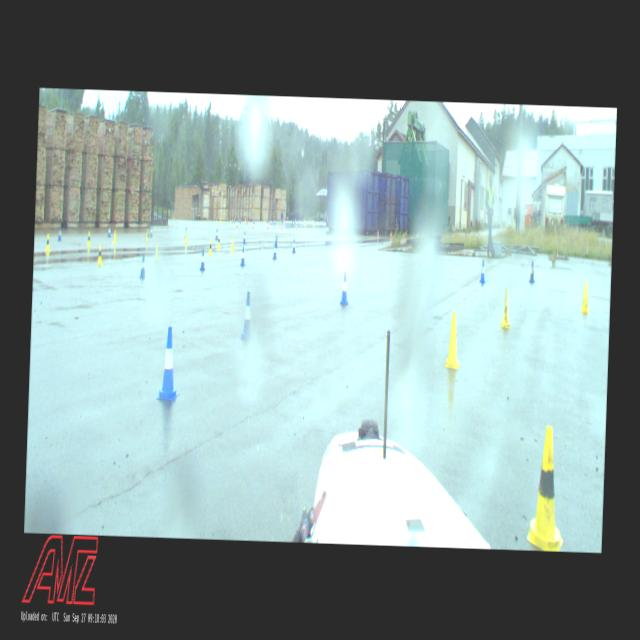blue_cone: (156, 326, 181, 399), (239, 290, 254, 338), (339, 270, 348, 304), (528, 260, 536, 282), (479, 258, 486, 282), (140, 253, 146, 278), (199, 248, 205, 270), (240, 247, 245, 266), (272, 242, 277, 259), (292, 238, 296, 252), (58, 227, 62, 241), (242, 231, 245, 243), (215, 228, 218, 240), (276, 234, 278, 247), (108, 225, 110, 237), (150, 225, 152, 237), (184, 226, 186, 238), (290, 220, 292, 227), (233, 216, 235, 222), (298, 218, 299, 226), (273, 219, 274, 225), (238, 218, 239, 222), (250, 218, 251, 222), (240, 218, 240, 223)
orange_cone: (389, 230, 392, 240), (235, 220, 238, 228), (376, 228, 378, 238), (245, 218, 248, 224), (252, 220, 254, 229), (402, 231, 404, 240), (266, 221, 268, 229), (230, 217, 232, 224), (270, 218, 272, 225), (280, 223, 282, 230), (294, 223, 296, 230)
yellow_cone: (526, 425, 566, 551), (445, 312, 461, 368), (499, 288, 512, 327), (580, 280, 590, 313), (96, 244, 102, 264), (44, 234, 50, 252), (86, 230, 91, 247), (208, 239, 213, 255), (154, 242, 158, 258), (230, 238, 234, 252), (113, 230, 117, 244), (185, 230, 188, 243), (217, 234, 220, 247), (146, 228, 149, 241), (314, 219, 316, 226), (312, 219, 314, 225), (305, 220, 306, 227), (221, 217, 222, 223), (216, 216, 217, 222), (264, 217, 265, 222), (304, 218, 304, 226), (230, 216, 230, 222), (220, 217, 220, 222)
